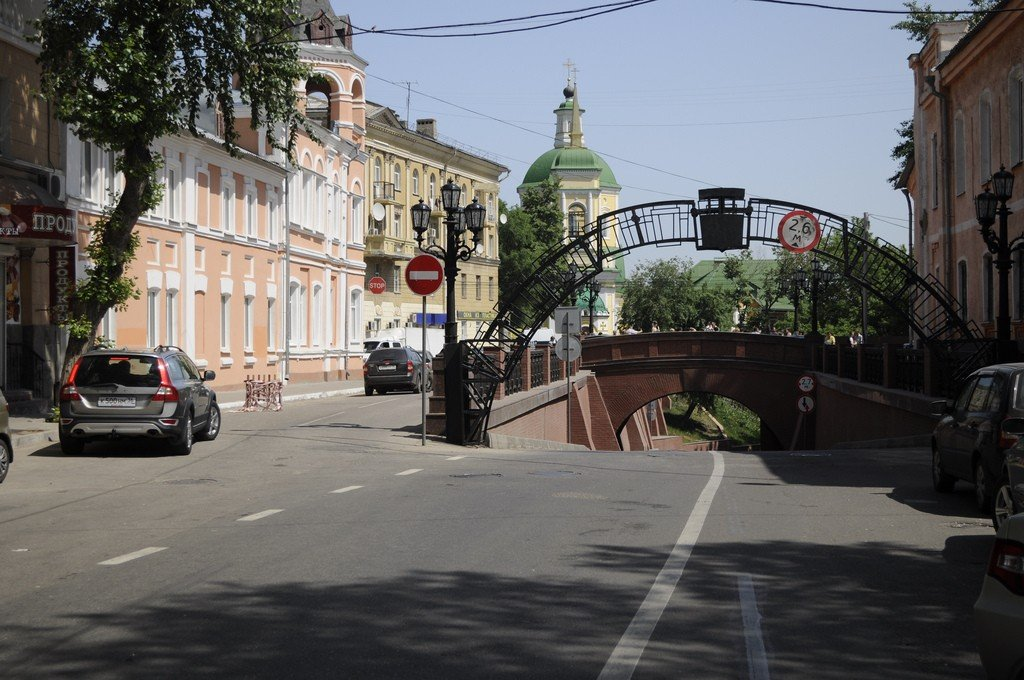sign: (777, 210, 821, 253), (404, 255, 444, 296), (367, 273, 388, 297), (794, 394, 815, 415), (797, 374, 817, 394)
